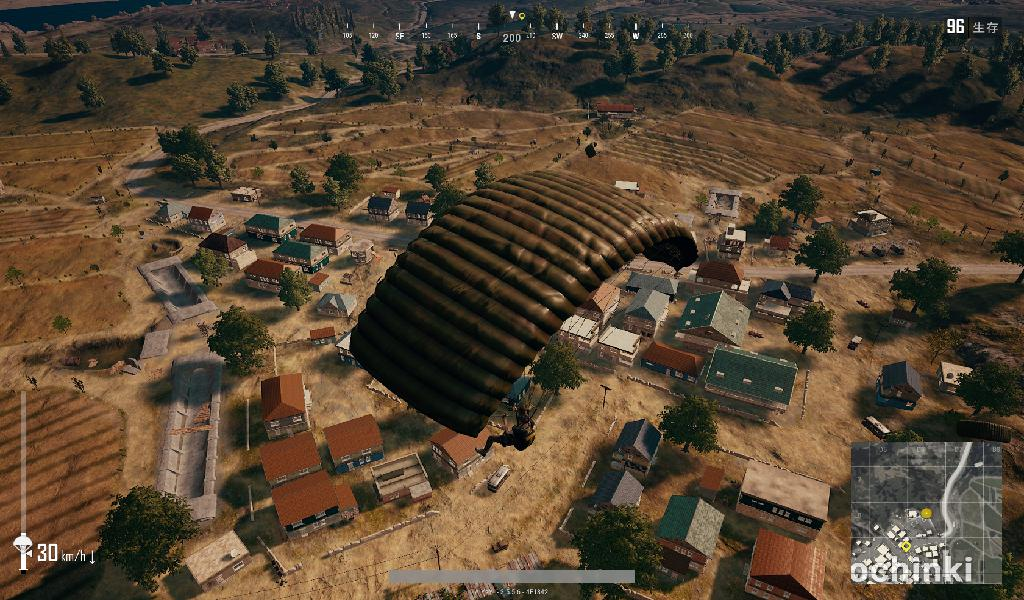Target Person: (470, 400, 538, 461)
